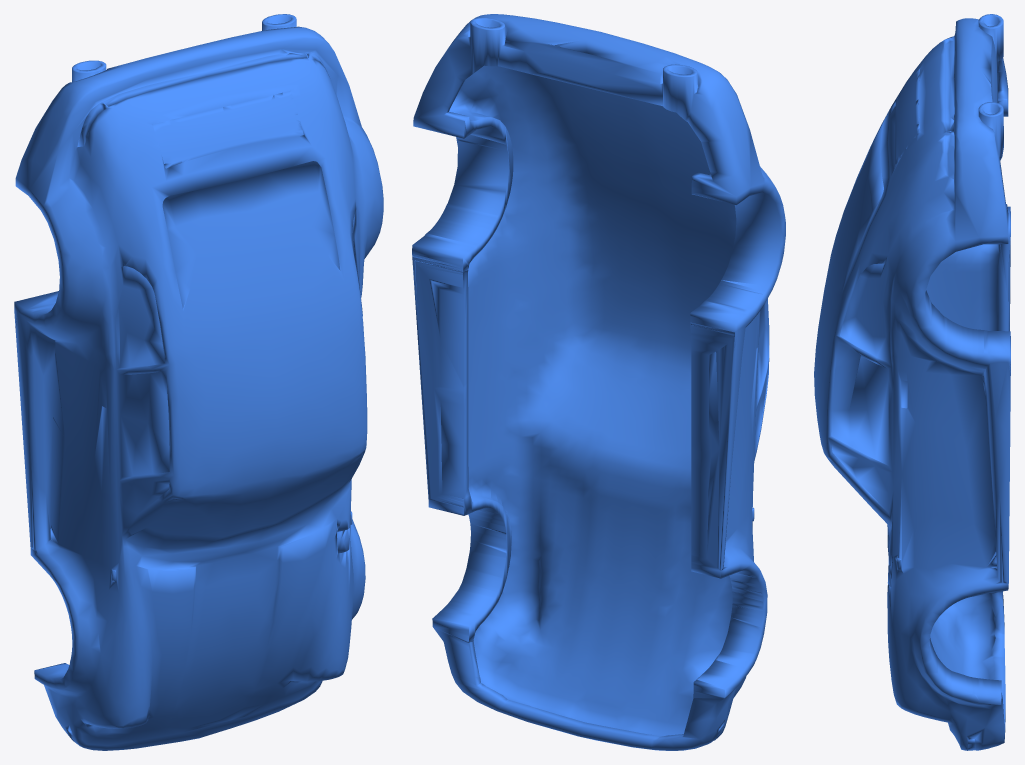
Rendered from 911_body_paw.dae.
The picture shows the model from 3 angles, left to right: view 1: azimuth 30°, elevation 25°; view 2: azimuth 150°, elevation 25°; view 3: azimuth 270°, elevation 25°; orthographic projection. The views are drawn at different scales.
Parts seen in each view (by area): view 1: node0; view 2: node0; view 3: node0.
Boxes of the visible parts, box(x1,y1,x2,y2) form: node0: box(14, 14, 383, 750); node0: box(412, 14, 785, 750); node0: box(814, 14, 1010, 750).
Size of the model in its own units: 295 by 609 by 166.
